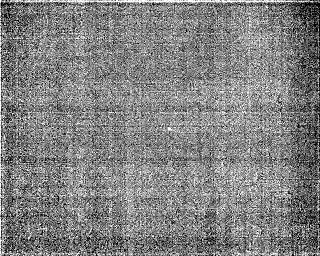AIRPLANE: (164, 124, 175, 136)
